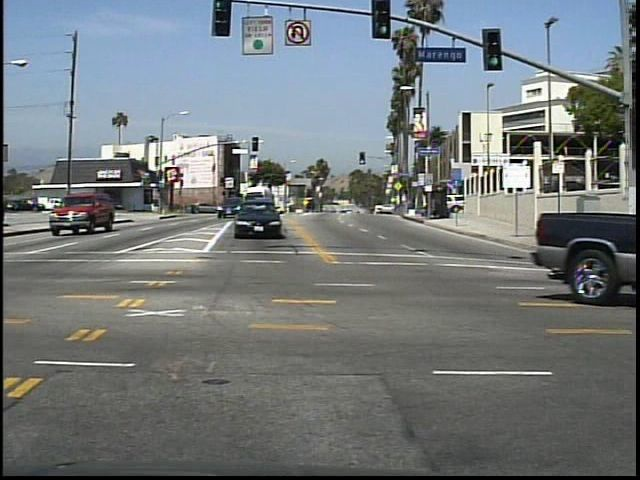person: (63, 192, 80, 220)
